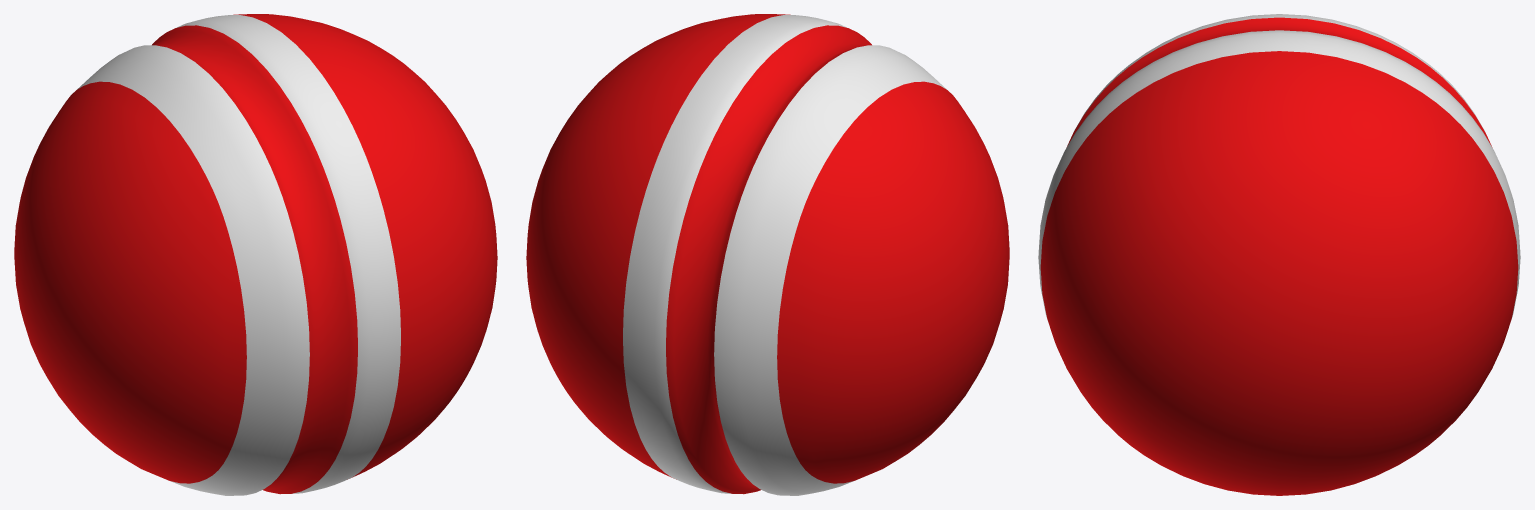
File: resulta 5.fbx
3 views of the same model, side by side, from view 1: azimuth 30°, elevation 25°; view 2: azimuth 150°, elevation 25°; view 3: azimuth 270°, elevation 25° (orthographic).
Visible parts, largest first — view 1: Cube; view 2: Cube; view 3: Cube.
Part boxes in pixels (left/top/right/bottom): Cube: left=14, top=14, right=497, bottom=495; Cube: left=526, top=14, right=1009, bottom=495; Cube: left=1038, top=14, right=1520, bottom=495.
Size of the model in its own units: 9810 by 9858 by 9858.
